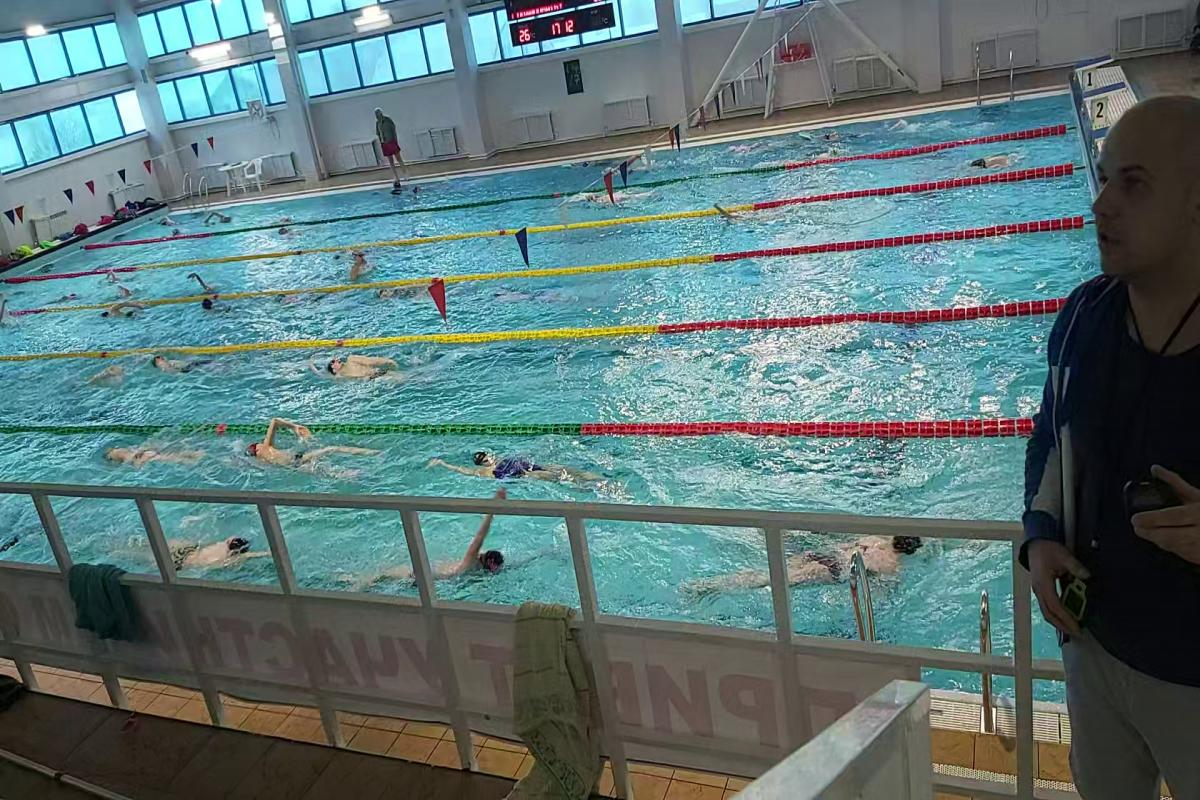swimmer: (694, 532, 929, 599), (351, 521, 523, 588), (432, 440, 621, 492), (126, 518, 273, 576), (235, 425, 379, 483), (96, 434, 208, 476), (302, 348, 412, 390), (142, 350, 222, 382), (191, 275, 241, 319), (340, 246, 383, 283), (96, 298, 148, 327), (962, 148, 1020, 174)
